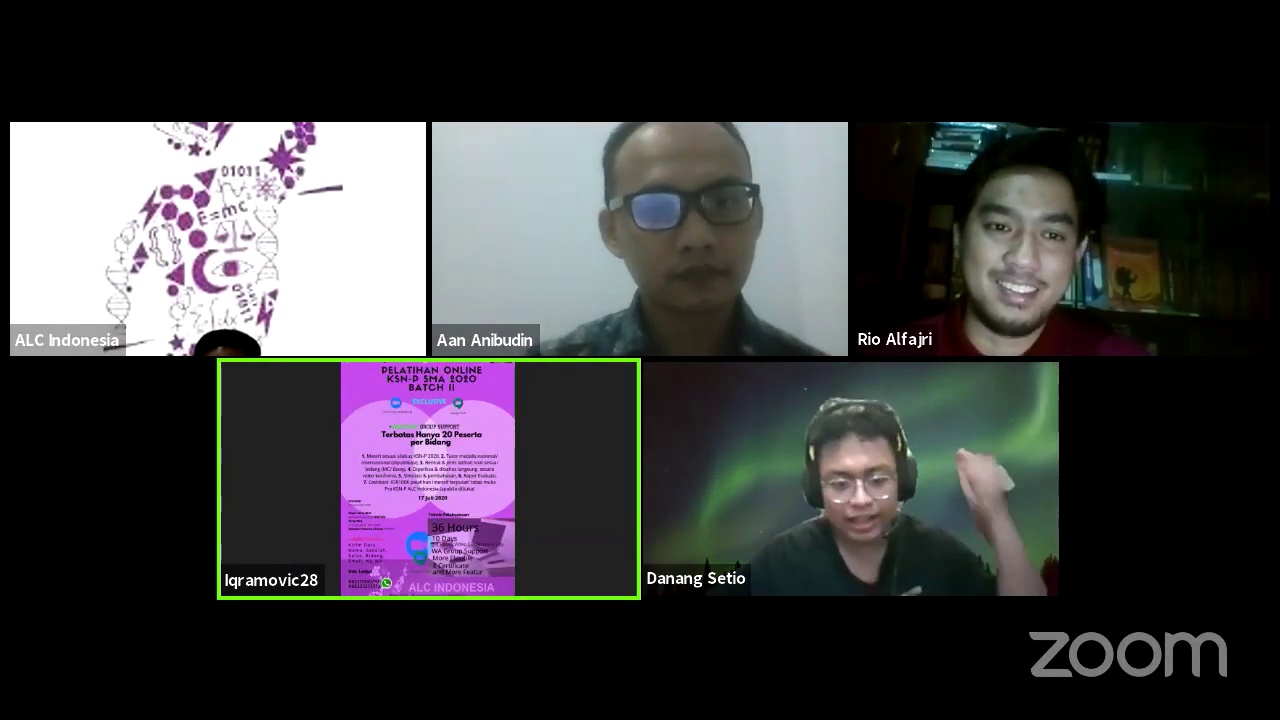Not Distracted: (594, 135, 774, 311), (947, 151, 1094, 326), (794, 403, 925, 542)
